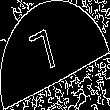L_S: (39, 26, 71, 84)
